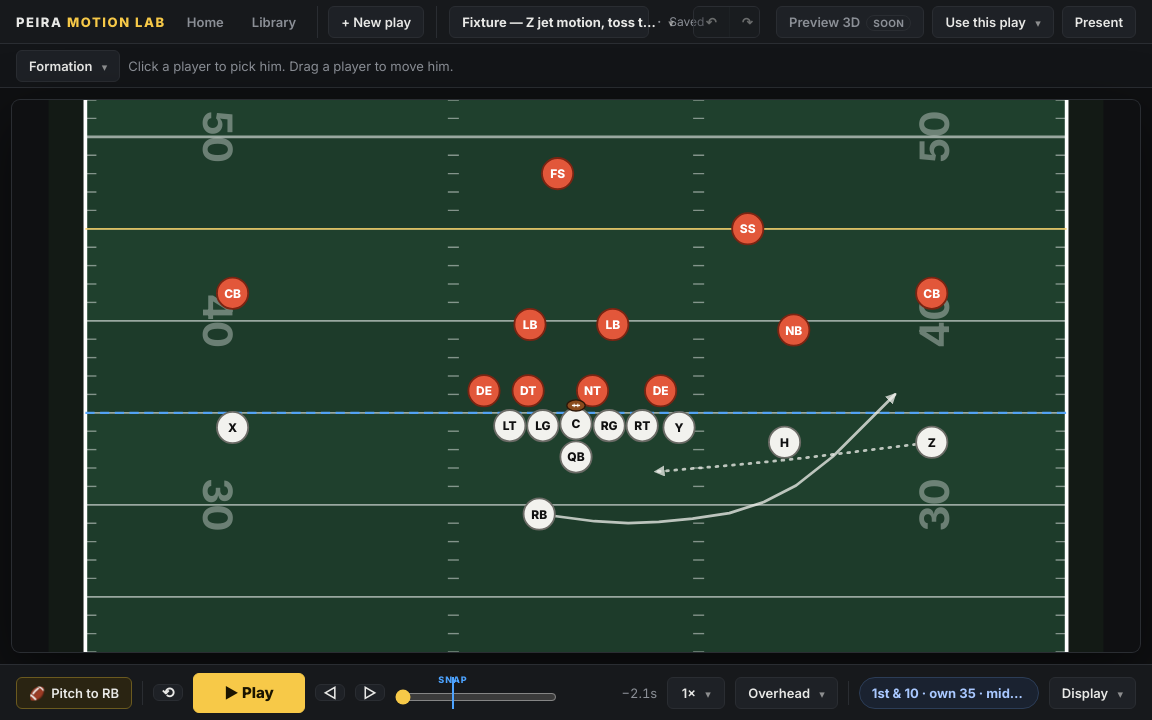
Test: Use this play: have I already taught it? › teaching a moment from the play is remembered, and the menu says when
Click the button "Use this play ▾" at (993, 22), box [932, 6, 1054, 38]
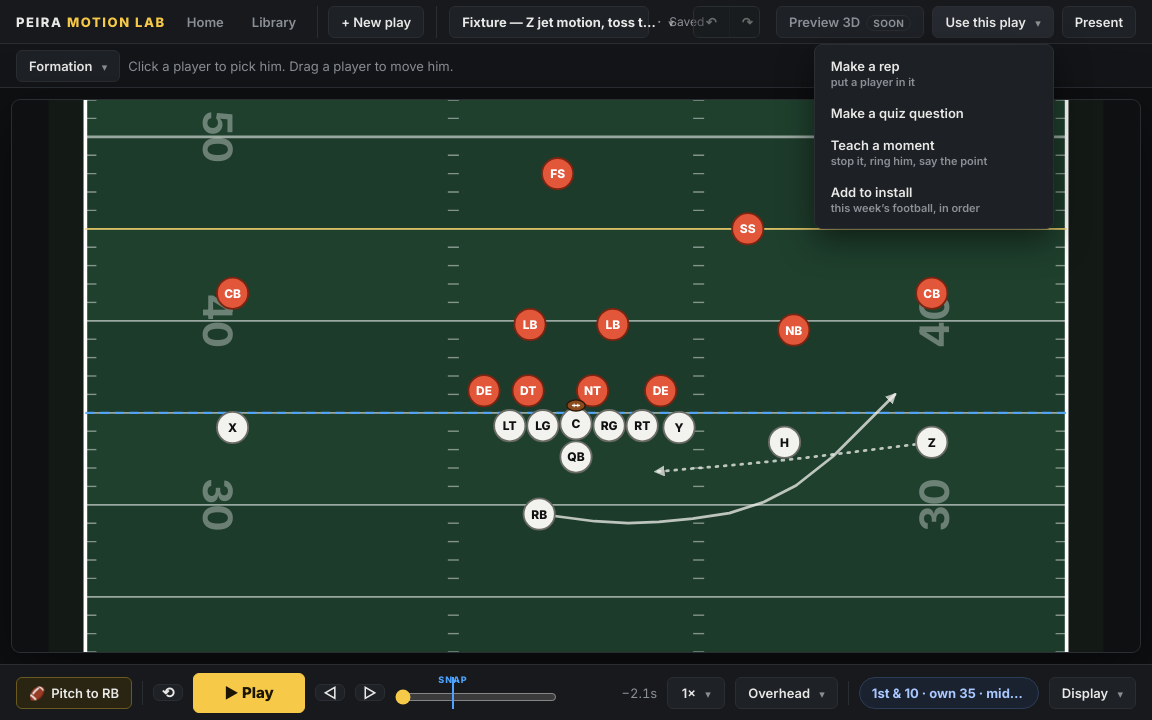
Expected: the text "You taught it" is not shown
Click the menu item "Teach a moment stop it, ring him, say the point" at (934, 152), box [821, 130, 1047, 174]
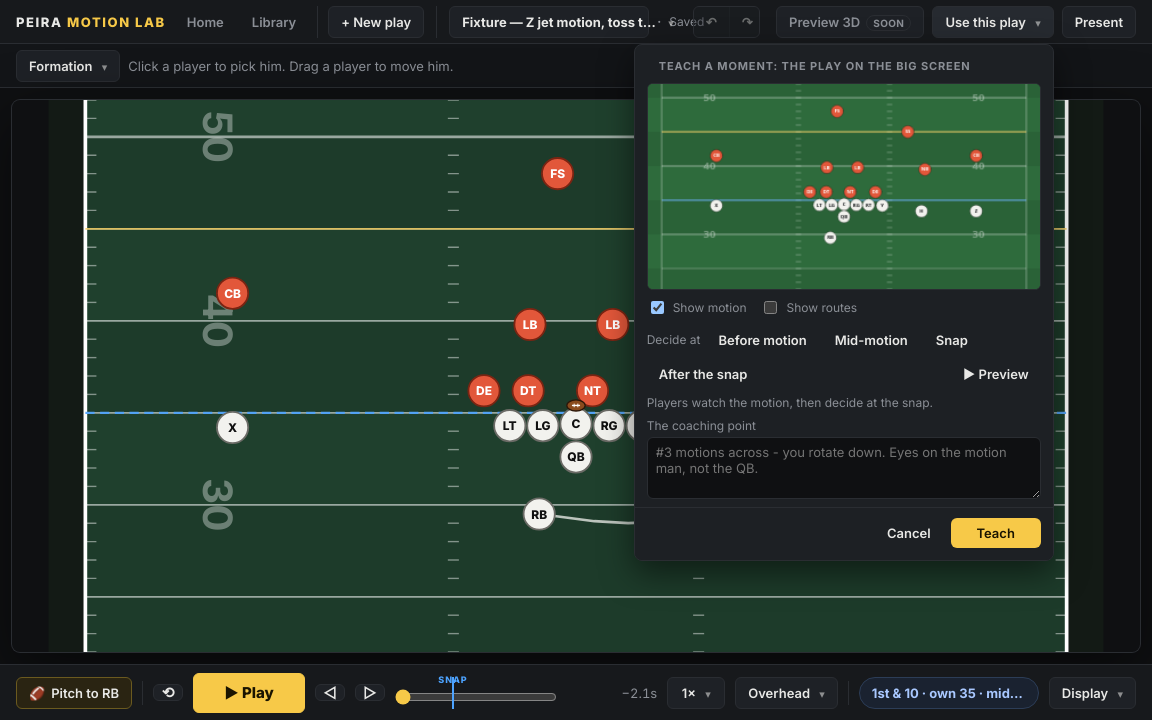
Click the button "Teach" at (996, 533), box [951, 518, 1041, 548]
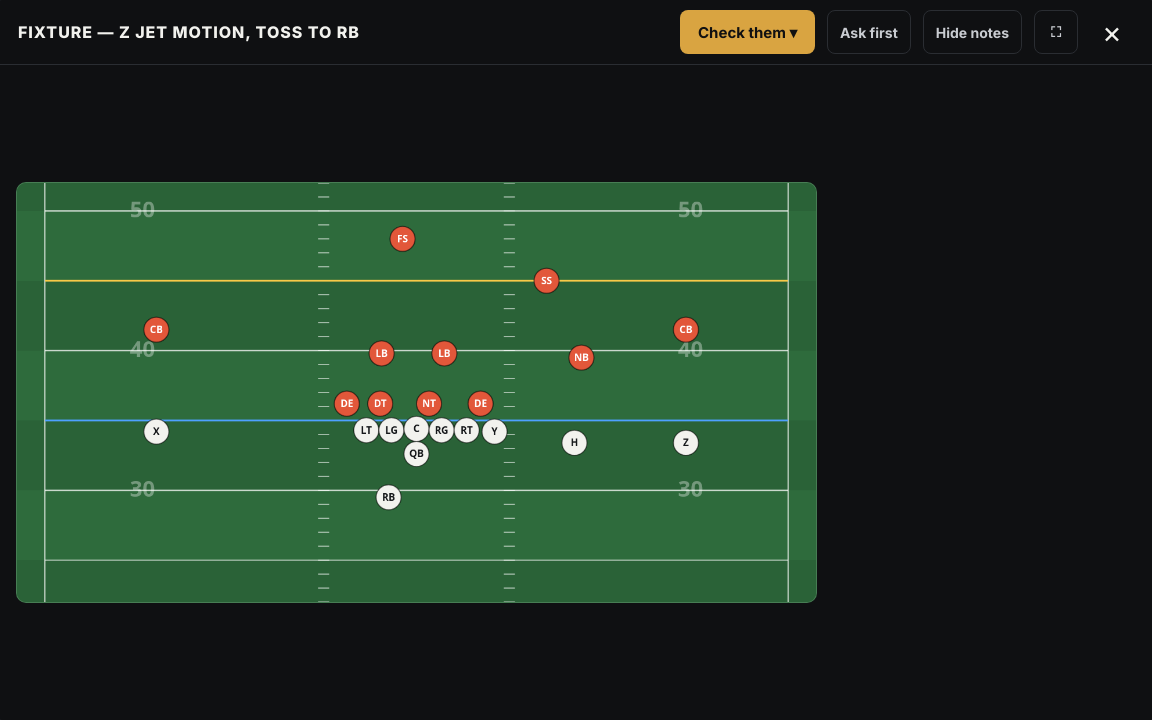
Click the button named "Close" at (1112, 32), box [1090, 10, 1134, 54]
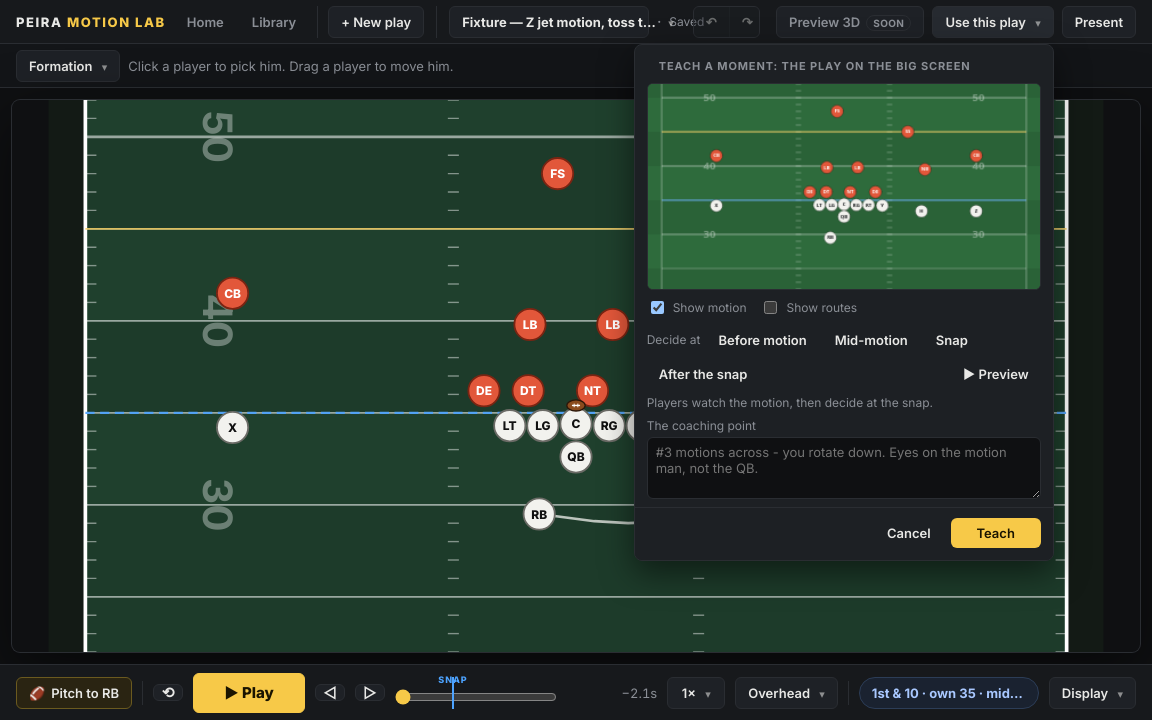
Click the button "Use this play ▾" at (993, 22), box [932, 6, 1054, 38]
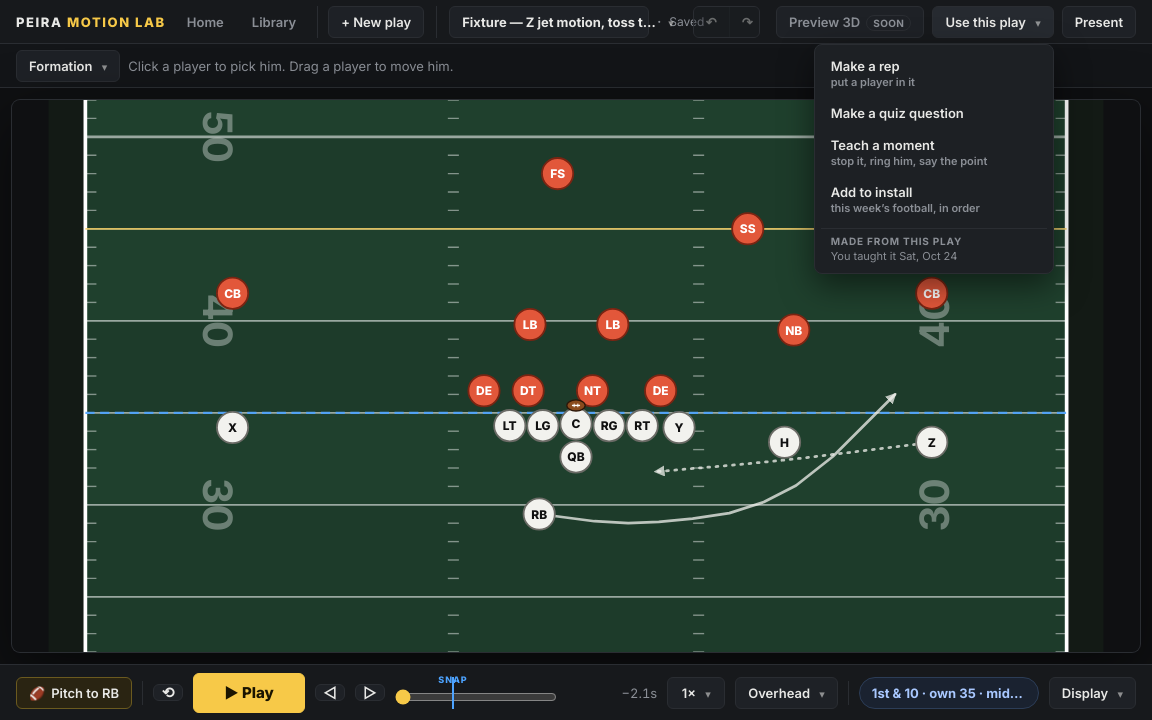
Expected: the element "Made from this play" shows "You taught it", [831, 248, 899, 262]
